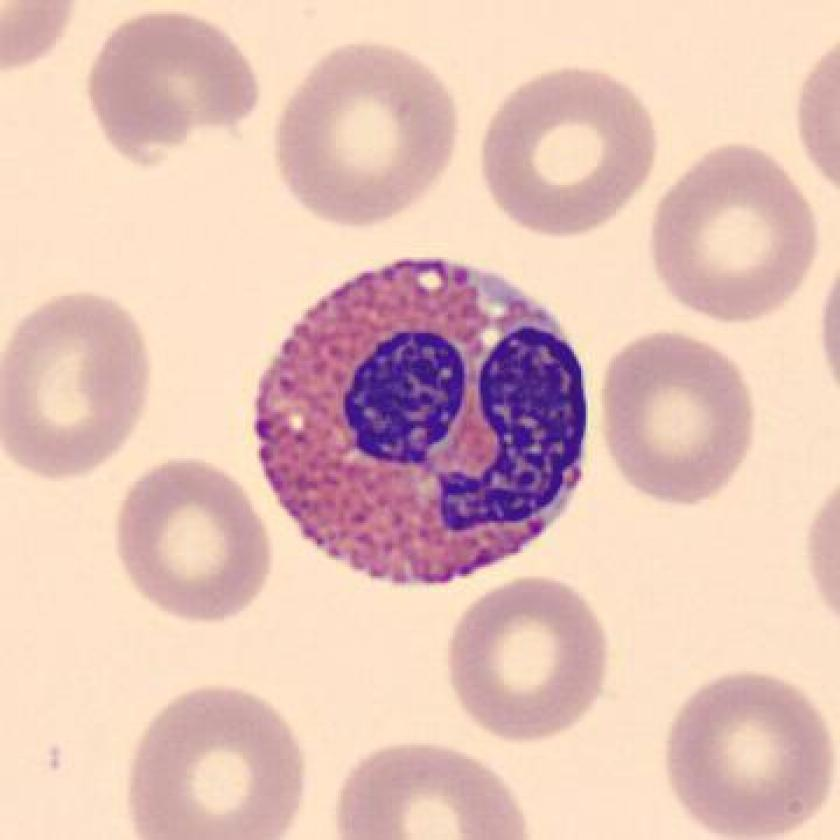eosinophil: (237, 239, 603, 603)
